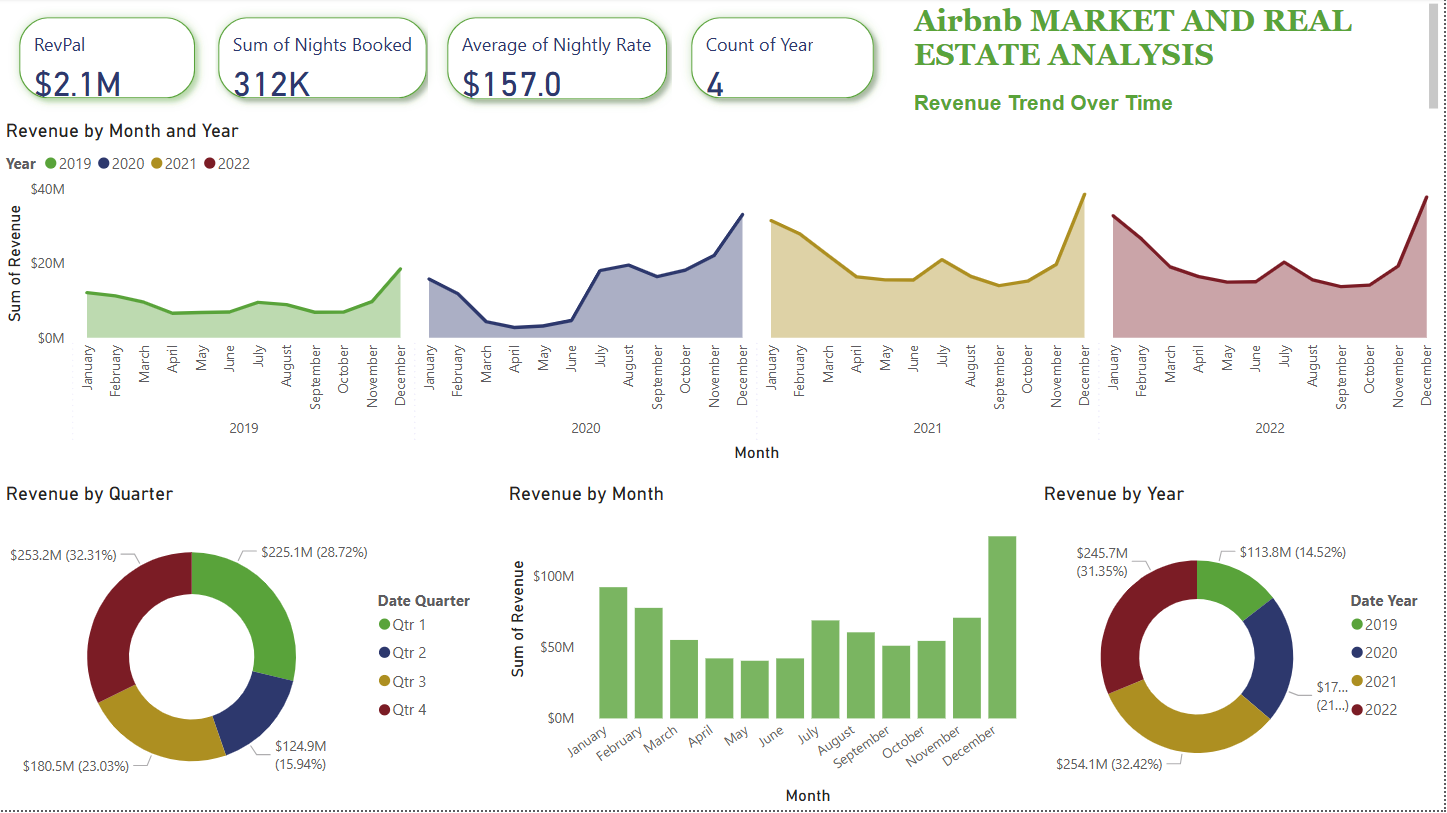

Layout of this report page (visuals, bound fields, positions):
{"tool":"powerbi","page":{"name":"Dashboard 1","canvas":[1280,720],"ordinal":0},"visuals":[{"type":"columnChart","title":"Revenue by Month","fields":{"Category":["market_analysis_clean.Date.Variation.Date Hierarchy.Month"],"Y":["Sum(market_analysis_clean.Revenue)"]},"box":[446,429.2,473.5,290.8],"z":0},{"type":"donutChart","title":"Revenue by Year","fields":{"Category":["market_analysis_clean.Date.Variation.Date Hierarchy.Year"],"Y":["Sum(market_analysis_clean.Revenue)"]},"box":[920.1,428.9,359.9,290.8],"z":1000},{"type":"areaChart","title":" Revenue by Month and Year","fields":{"Category":["market_analysis_clean.Date.Variation.Date Hierarchy.Year","market_analysis_clean.Date.Variation.Date Hierarchy.Month"],"Y":["Sum(market_analysis_clean.Revenue)"],"Series":["market_analysis_clean.Date.Variation.Date Hierarchy.Year"]},"box":[0,107.1,1280.5,309.4],"z":2000},{"type":"donutChart","title":"Revenue by Quarter","fields":{"Y":["Sum(market_analysis_clean.Revenue)"],"Category":["market_analysis_clean.Date.Variation.Date Hierarchy.Quarter"]},"box":[0,429.2,438.8,291],"z":3000},{"type":"cardVisual","fields":{"Data":["Sum(market_analysis_clean.Nights Booked)"]},"box":[176,0,219.8,106.2],"z":4000},{"type":"textbox","box":[805.1,0,475.3,106.4],"z":5000},{"type":"cardVisual","fields":{"Data":["Avg(market_analysis_clean.Nightly Rate)"]},"box":[379.2,0,229.2,107.3],"z":6000},{"type":"cardVisual","fields":{"Data":["Count(market_analysis_clean.Date.Variation.Date Hierarchy.Year)"]},"box":[595.8,0,196.9,106.2],"z":7000},{"type":"cardVisual","fields":{"Data":["Amenities calculations (2).RevPal"]},"box":[0,0,190.6,106.2],"z":8000}]}

Visuals, with their boxes in screenshot pixels (x1, y1, x2, y2), scaled from the page's 1280x720 canvas onto the 1447x813 screenshot:
"Revenue by Month" columnChart: {"left": 504, "top": 485, "right": 1039, "bottom": 812}
"Revenue by Year" donutChart: {"left": 1040, "top": 484, "right": 1446, "bottom": 812}
" Revenue by Month and Year" areaChart: {"left": 0, "top": 121, "right": 1446, "bottom": 470}
"Revenue by Quarter" donutChart: {"left": 0, "top": 485, "right": 496, "bottom": 812}
cardVisual - Sum(market_analysis_clean.Nights Booked): {"left": 199, "top": 0, "right": 447, "bottom": 120}
textbox: {"left": 910, "top": 0, "right": 1446, "bottom": 120}
cardVisual - Avg(market_analysis_clean.Nightly Rate): {"left": 429, "top": 0, "right": 688, "bottom": 121}
cardVisual - Count(market_analysis_clean.Date.Variation.Date Hierarchy.Year): {"left": 674, "top": 0, "right": 896, "bottom": 120}
cardVisual - Amenities calculations (2).RevPal: {"left": 0, "top": 0, "right": 215, "bottom": 120}
